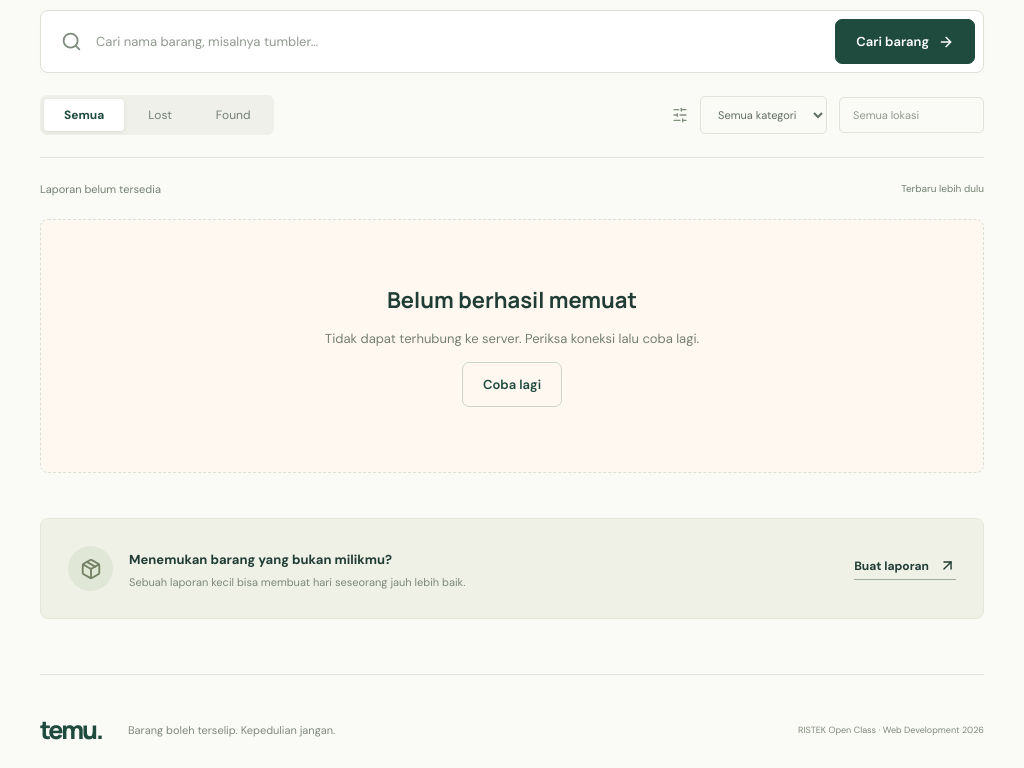
Test case: server outage presents a retry and successfully recovers
(page scrolled)
Expected: the message shows "Tidak dapat terhubung", left=325, top=330, right=699, bottom=347
Click the button "Coba lagi" at [512, 384], box left=462, top=362, right=562, bottom=407
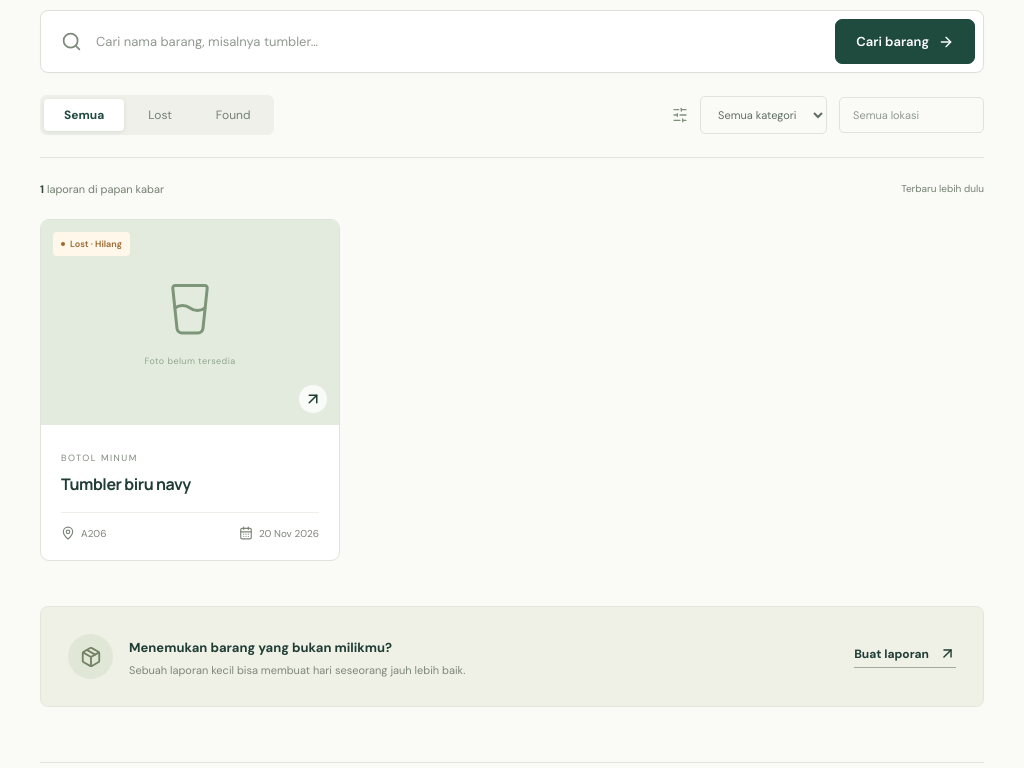
Expected: the heading "Tumbler biru navy" is shown, left=61, top=473, right=191, bottom=495
